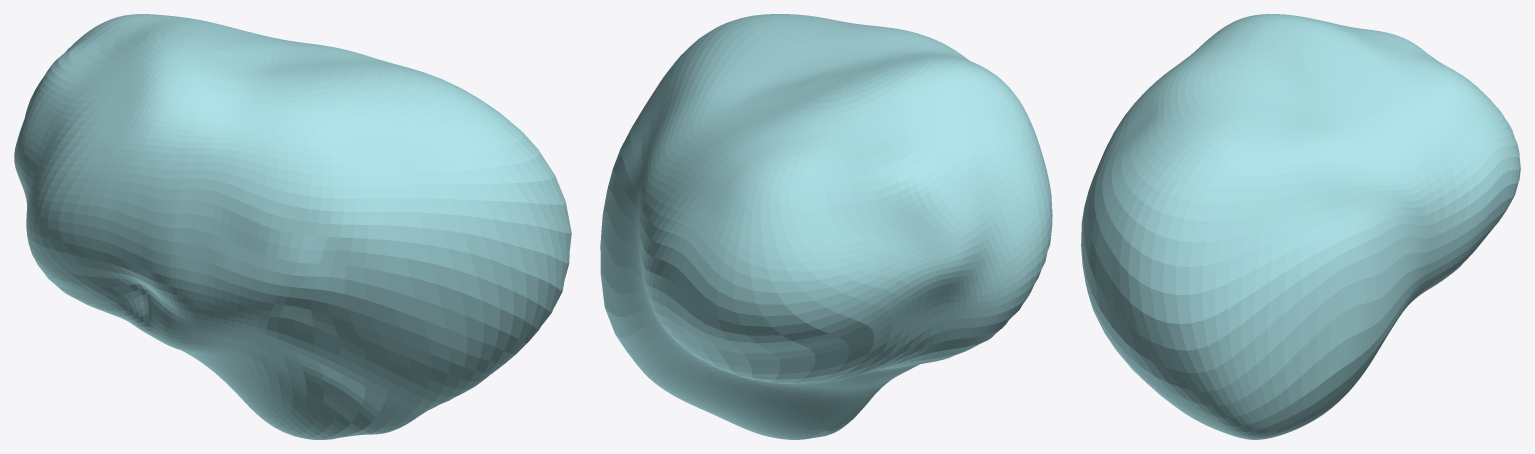
File: Asteroid.fbx
3 views of the same model, side by side, from view 1: azimuth 30°, elevation 25°; view 2: azimuth 150°, elevation 25°; view 3: azimuth 270°, elevation 25° (orthographic). The views are drawn at different scales.
Visible parts, largest first — view 1: Sphere; view 2: Sphere; view 3: Sphere.
Part boxes in pixels (x1,y1,x2,y2): Sphere: (14, 14, 571, 439); Sphere: (600, 14, 1052, 439); Sphere: (1081, 14, 1520, 439).
Bounding box in the file's own units: 437 × 359 × 429.
